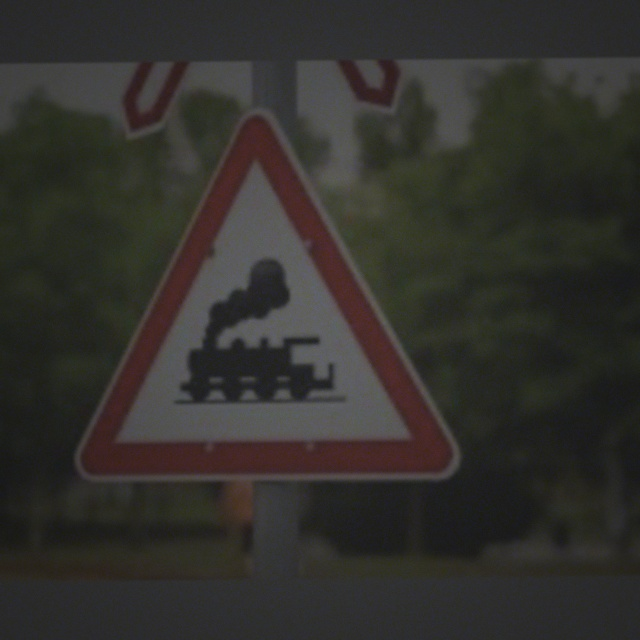Unguarded_Level_Crossing: (57, 121, 482, 490)
